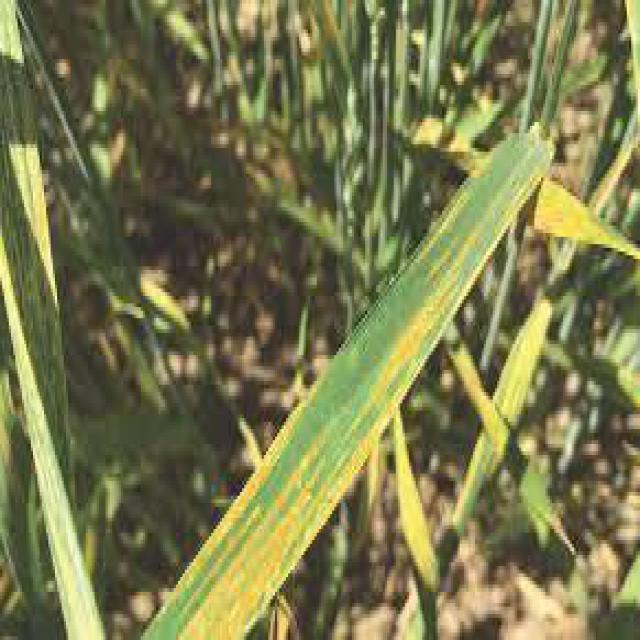Yellow Rust: (144, 125, 553, 637)
